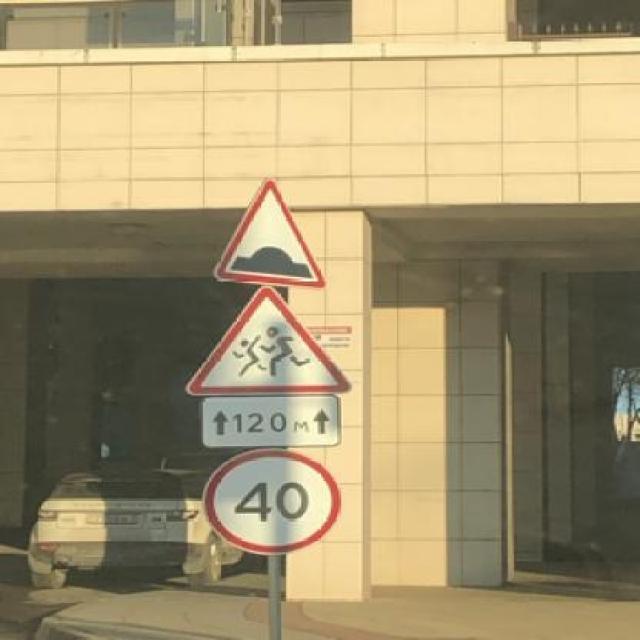forb_speed_over_40: (209, 449, 340, 552)
